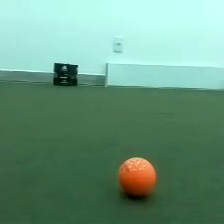ball: (116, 153, 159, 200)
goal: (103, 60, 224, 90)
robot: (50, 61, 79, 88)
